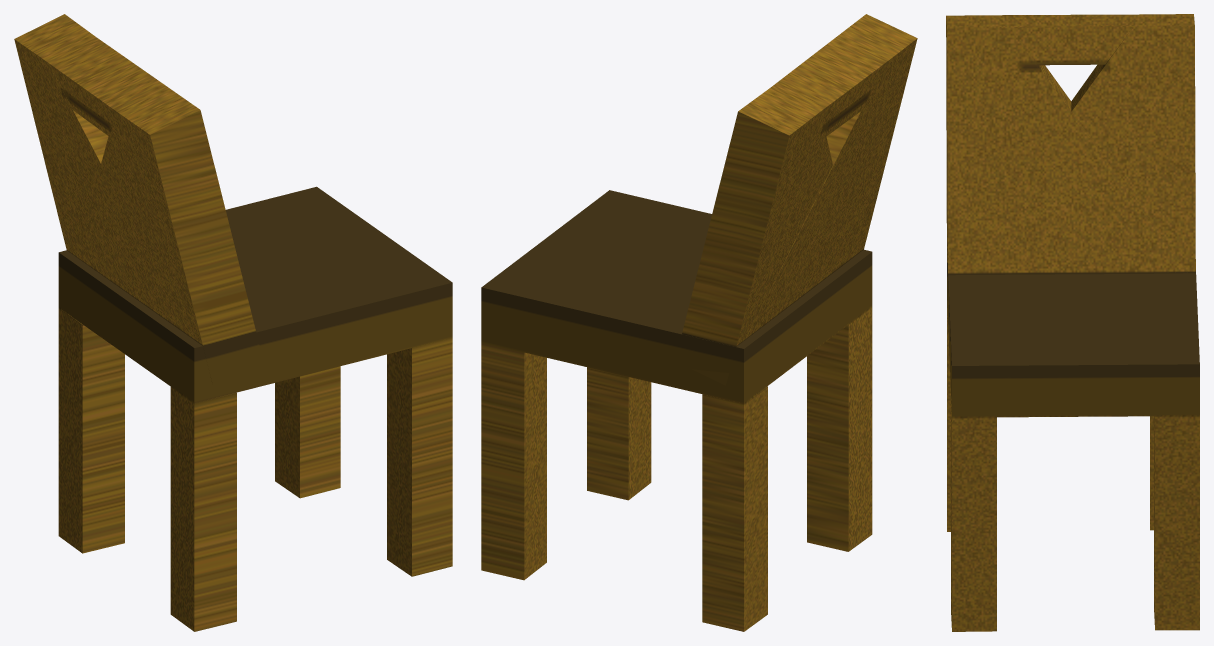
File: chair.glb
3 renders of one model, left to right at view 1: azimuth 30°, elevation 25°; view 2: azimuth 150°, elevation 25°; view 3: azimuth 270°, elevation 25°, orthographic. The views are drawn at different scales.
Visible parts, largest first — view 1: chair; view 2: chair; view 3: chair.
Part boxes in pixels (box(x1,y1,x2,y2)): chair: box(14, 14, 452, 631); chair: box(481, 14, 917, 631); chair: box(946, 14, 1199, 631).
Size of the model in its own units: 29.67 by 47.7 by 22.49.
1 material, 1 textured.
